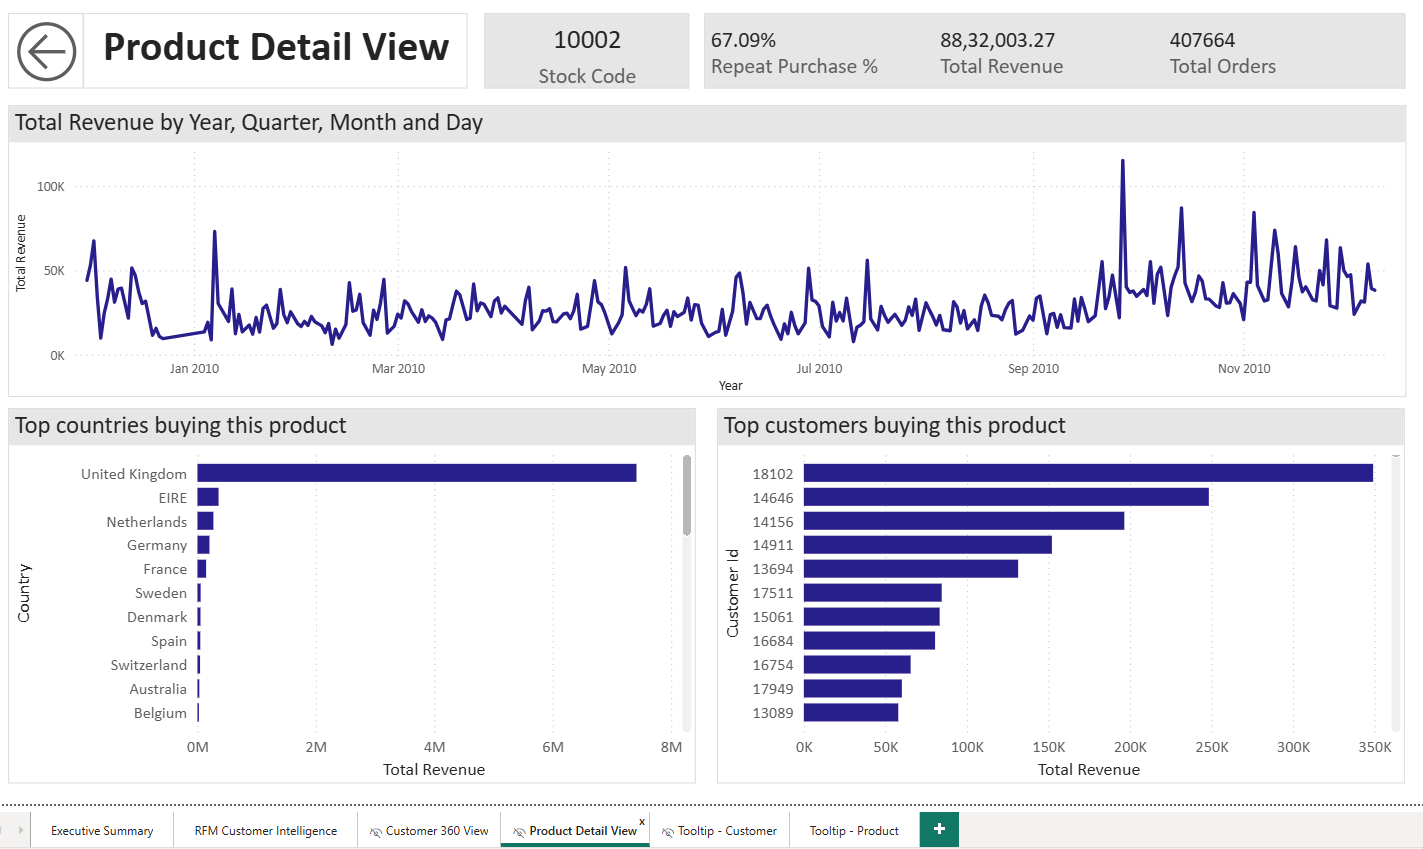

What the dashboard file says about the page in this screenshot:
{"tool":"powerbi","page":{"name":"Product Detail View","canvas":[1280,720],"ordinal":3},"visuals":[{"type":"textbox","box":[87.1,18.5,340.8,66.7],"z":0},{"type":"multiRowCard","fields":{"Values":["fact_sales.Product Repeat Purchase Rate","fact_sales.Total Revenue","fact_sales.invoice"]},"box":[637.2,18.5,622.4,66.7],"z":1000},{"type":"card","fields":{"Values":["Min(fact_sales.stockcode)"]},"box":[442.7,18.5,181.5,66.7],"z":2000},{"type":"lineChart","fields":{"Y":["fact_sales.Total Revenue"],"Category":["date_dim.date.Variation.Date Hierarchy.Year","date_dim.date.Variation.Date Hierarchy.Quarter","date_dim.date.Variation.Date Hierarchy.Month","date_dim.date.Variation.Date Hierarchy.Day"]},"box":[20,100,1240,259.3],"z":3000},{"type":"clusteredBarChart","title":"Top countries buying this product","fields":{"Category":["fact_sales.country"],"Y":["fact_sales.Total Revenue"]},"box":[20.4,368.6,610,333.4],"z":4000},{"type":"clusteredBarChart","title":"Top customers buying this product","fields":{"Y":["fact_sales.Total Revenue"],"Category":["customer_rfm.customer_id"]},"box":[649,368.6,610,333.4],"z":5000},{"type":"actionButton","box":[20.4,18.5,66.7,66.7],"z":6000}]}

Visuals, with their boxes on the page's 1280x720 design canvas (x1, y1, x2, y2). These are canvas units, not pixel positions in the 1423x849 screenshot, which may show the page scaled, cropped or inside an application window:
textbox: x1=87 y1=18 x2=428 y2=85
multiRowCard - fact_sales.Product Repeat Purchase Rate x fact_sales.Total Revenue: x1=637 y1=18 x2=1260 y2=85
card - Min(fact_sales.stockcode): x1=443 y1=18 x2=624 y2=85
lineChart - fact_sales.Total Revenue x date_dim.date.Variation.Date Hierarchy.Year: x1=20 y1=100 x2=1260 y2=359
"Top countries buying this product" clusteredBarChart: x1=20 y1=369 x2=630 y2=702
"Top customers buying this product" clusteredBarChart: x1=649 y1=369 x2=1259 y2=702
actionButton: x1=20 y1=18 x2=87 y2=85
